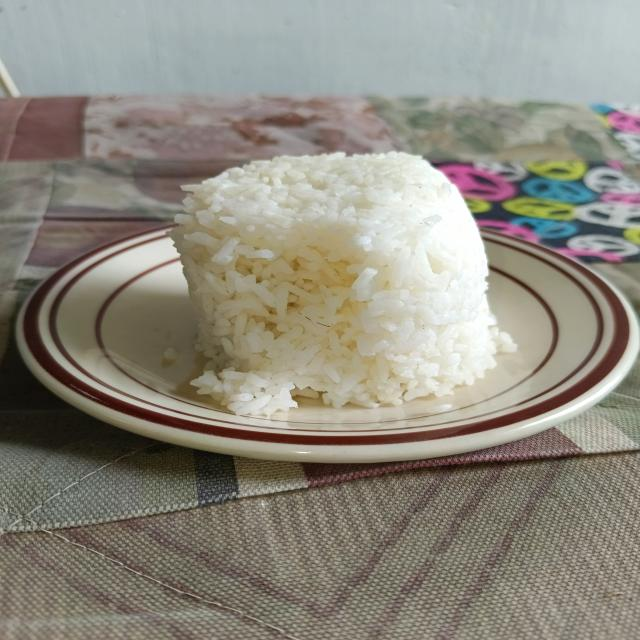Chicken -Chicken Inasal-: (166, 139, 504, 422)
